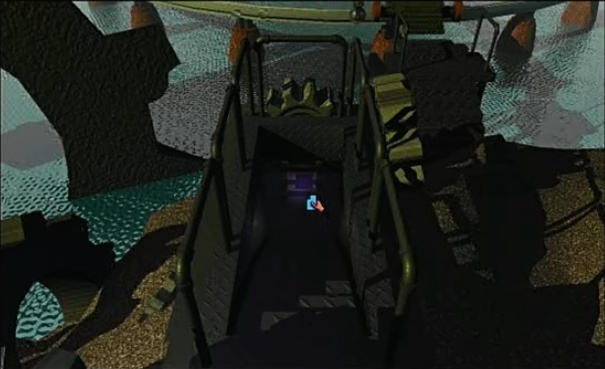Keep: (301, 192, 329, 219)
